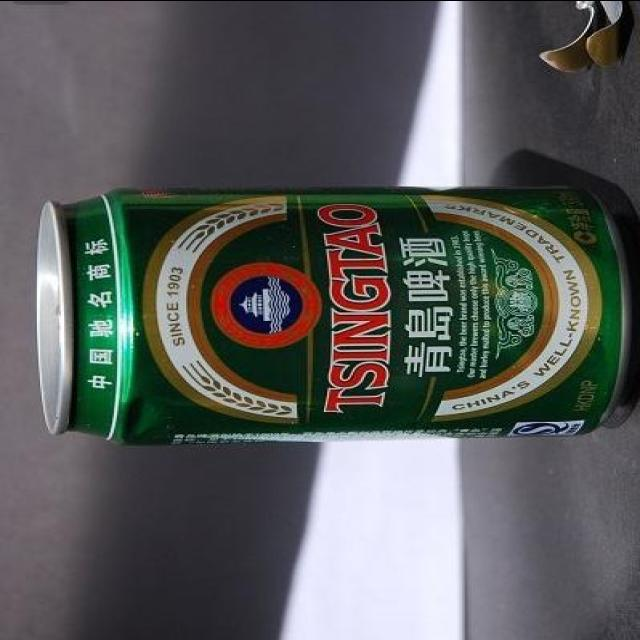-Recyclables - can-: (34, 182, 634, 444)
